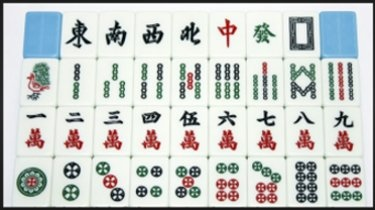1W: (21, 109, 50, 153)
1i: (25, 60, 53, 104)
1o: (15, 161, 48, 200)
2W: (63, 109, 87, 154)
2i: (66, 61, 86, 102)
2o: (58, 160, 84, 203)
3W: (102, 108, 125, 152)
3i: (99, 59, 127, 101)
3o: (94, 160, 127, 203)
4W: (137, 108, 164, 152)
4i: (137, 61, 166, 101)
4o: (134, 163, 165, 199)
5W: (177, 108, 201, 152)
5i: (175, 61, 204, 102)
5o: (172, 162, 203, 200)
6W: (214, 108, 241, 154)
6i: (211, 60, 241, 101)
6o: (213, 161, 242, 204)
7W: (253, 108, 279, 153)
7i: (252, 59, 280, 102)
7o: (250, 160, 283, 205)
8W: (290, 108, 318, 154)
8i: (287, 60, 319, 100)
8o: (293, 159, 321, 204)
9W: (329, 109, 356, 154)
9i: (325, 61, 356, 102)
9o: (327, 162, 364, 203)
East: (64, 16, 94, 52)
Green: (250, 17, 277, 49)
North: (177, 19, 202, 49)
Red: (214, 16, 240, 52)
South: (104, 18, 128, 50)
West: (140, 20, 164, 48)
White: (287, 13, 317, 54)
